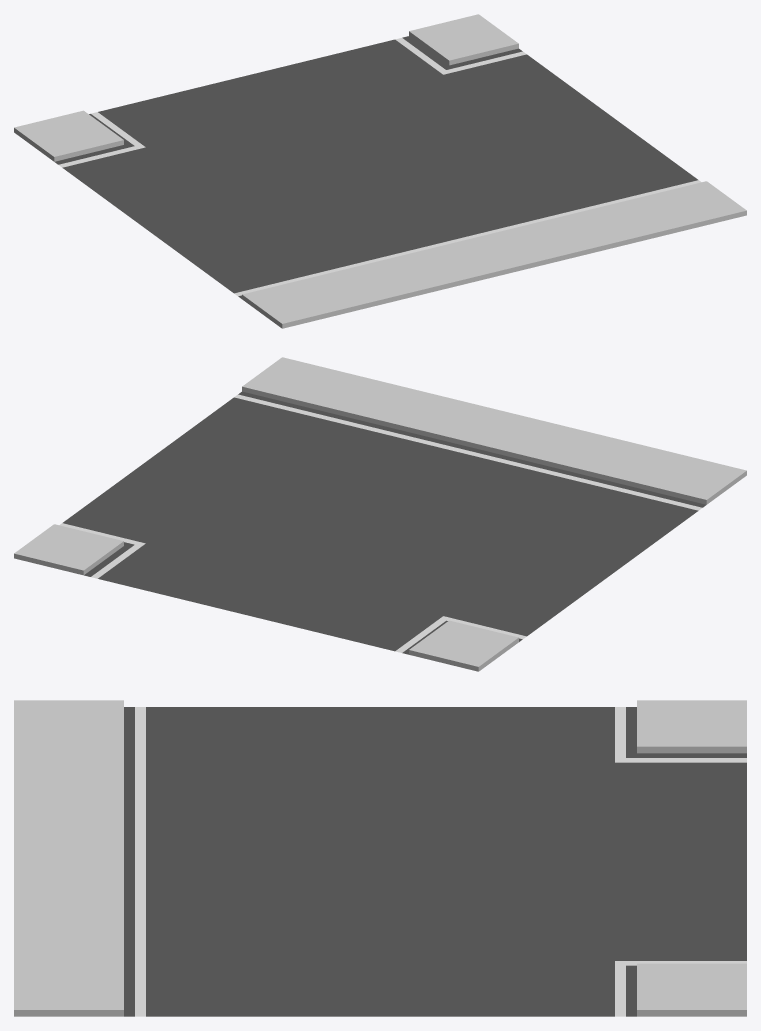
File: SPW_Urban_Road 2way_T_Intersection_02.gltf
3 views of the same model, one above another, from view 1: azimuth 30°, elevation 25°; view 2: azimuth 150°, elevation 25°; view 3: azimuth 270°, elevation 25° (orthographic). The views are drawn at different scales.
Parts seen in each view (by area): view 1: SPW_Urban_Road_2way_T_Intersection_02; view 2: SPW_Urban_Road_2way_T_Intersection_02; view 3: SPW_Urban_Road_2way_T_Intersection_02.
Boxes of the visible parts, x1,y1,x2,y2 form: SPW_Urban_Road_2way_T_Intersection_02: (14, 14, 746, 328); SPW_Urban_Road_2way_T_Intersection_02: (14, 357, 746, 671); SPW_Urban_Road_2way_T_Intersection_02: (14, 700, 746, 1016).
Size of the model in its own units: 787 by 7.87 by 787.
1 material, 1 textured.
